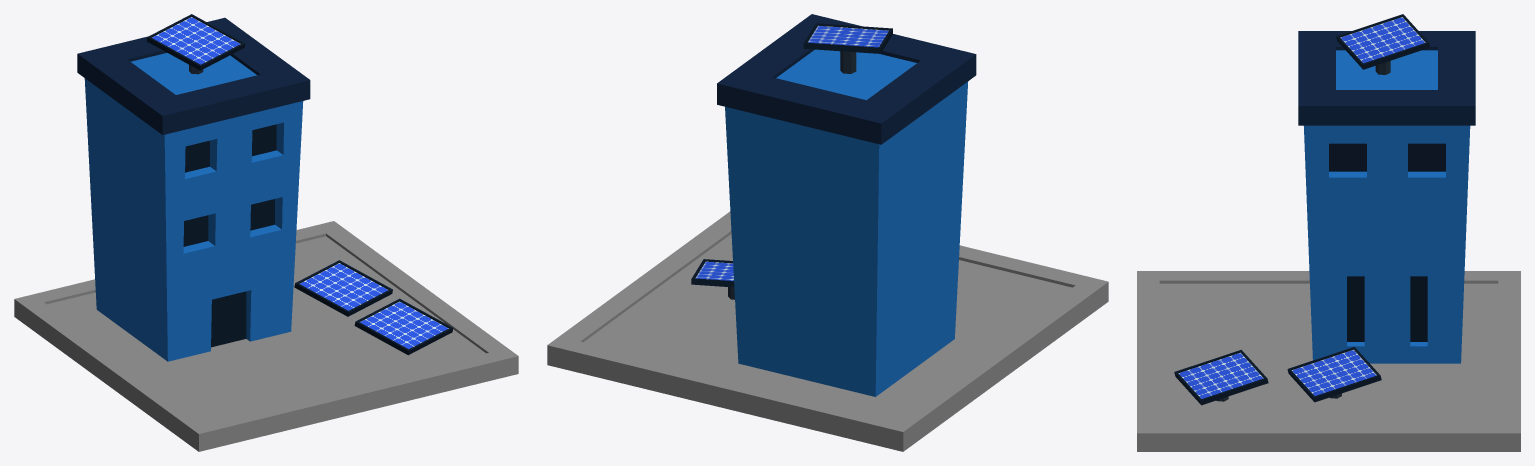
The model's file is SubOffice_SolarPanel_Model.fbx.
3 views of the same model, side by side, from view 1: azimuth 30°, elevation 25°; view 2: azimuth 150°, elevation 25°; view 3: azimuth 270°, elevation 25° (orthographic). The views are drawn at different scales.
Visible parts, largest first — view 1: SubOffice_Model:SubOffice_WindTurbine_Model:pCube29, SubOffice_Model:pCube7, pCube10, SolarPanel_Model:pCube10, SolarPanel_Model:pCube11; view 2: SubOffice_Model:SubOffice_WindTurbine_Model:pCube29, SubOffice_Model:pCube7, pCube10, SolarPanel_Model:pCube10; view 3: SubOffice_Model:SubOffice_WindTurbine_Model:pCube29, SubOffice_Model:pCube7, pCube10, SolarPanel_Model:pCube10, SolarPanel_Model:pCube11.
Part boxes in pixels (left/top/right/bottom): SubOffice_Model:SubOffice_WindTurbine_Model:pCube29: left=77, top=17, right=310, bottom=361; SubOffice_Model:pCube7: left=14, top=221, right=518, bottom=451; pCube10: left=146, top=14, right=245, bottom=74; SolarPanel_Model:pCube10: left=294, top=260, right=392, bottom=316; SolarPanel_Model:pCube11: left=354, top=298, right=453, bottom=355; SubOffice_Model:SubOffice_WindTurbine_Model:pCube29: left=717, top=14, right=976, bottom=396; SubOffice_Model:pCube7: left=547, top=211, right=1108, bottom=451; pCube10: left=803, top=23, right=892, bottom=73; SolarPanel_Model:pCube10: left=691, top=259, right=734, bottom=299; SubOffice_Model:SubOffice_WindTurbine_Model:pCube29: left=1298, top=31, right=1475, bottom=363; SubOffice_Model:pCube7: left=1137, top=271, right=1520, bottom=451; pCube10: left=1336, top=14, right=1430, bottom=74; SolarPanel_Model:pCube10: left=1287, top=347, right=1381, bottom=402; SolarPanel_Model:pCube11: left=1174, top=349, right=1268, bottom=405.
Size of the model in its own units: 22.06 by 19.94 by 22.06.
